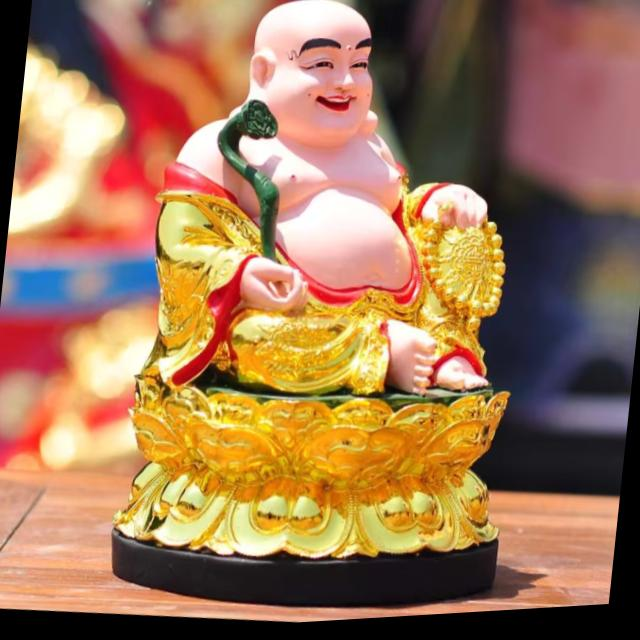Smiling Buddha: (149, 0, 469, 413)
